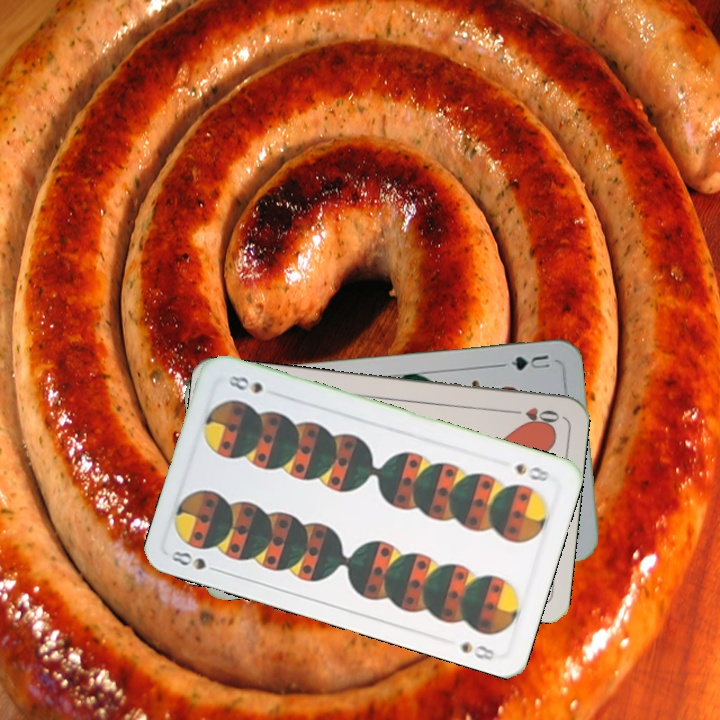GU: (497, 350, 553, 373)
HO: (504, 403, 562, 428)
S8: (167, 546, 225, 576), (511, 459, 554, 485)
